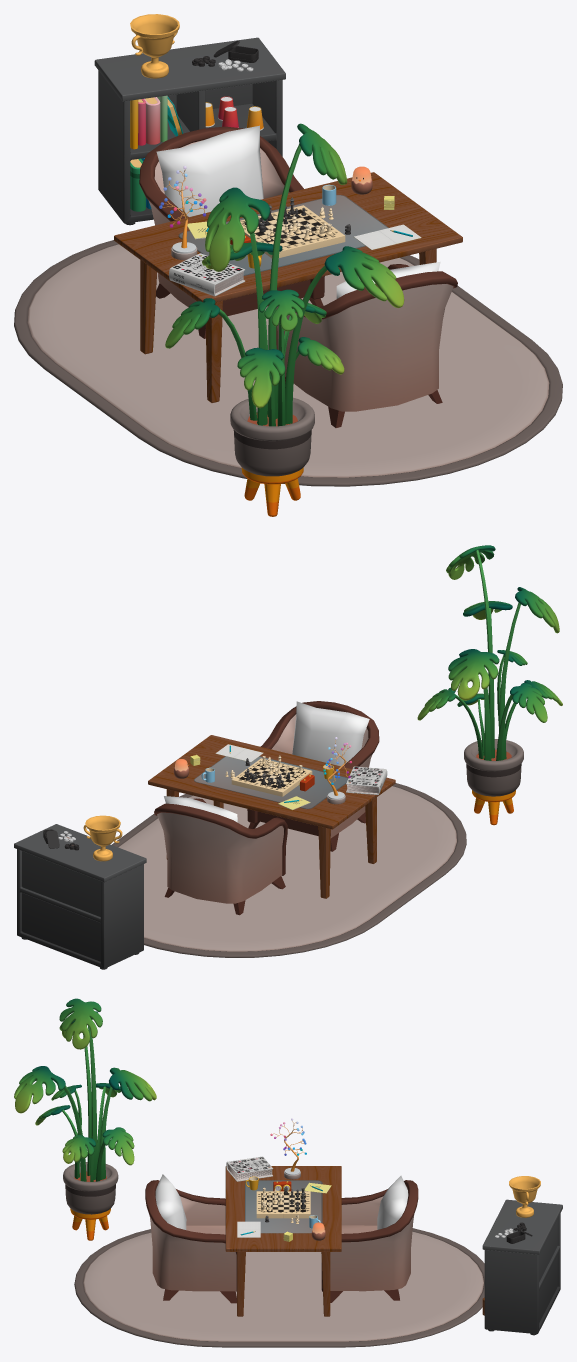
File: Chess_Pack_Free_Demo.glb
3 views of the same model, one above another, from view 1: azimuth 30°, elevation 25°; view 2: azimuth 150°, elevation 25°; view 3: azimuth 270°, elevation 25° (orthographic). The views are drawn at different scales.
Visible parts, largest first — view 1: Rug_01.001, Plant.002, Chair_01.001, Shelving_01.001, Table_01.002, Chair_01.002, Desk_Mat_01.001, Cup_01.003, Books_01.001, Book_01.001, Chesspad_01.002, Night_Lamp_02.002 (+2 smaller); view 2: Rug_01.001, Shelving_01.001, Plant.002, Chair_01.002, Table_01.002, Chair_01.001, Desk_Mat_01.001, Cup_01.003, Book_01.001, Chesspad_02.002, Chesspad_01.002, Night_Lamp_02.002; view 3: Rug_01.001, Plant.002, Shelving_01.001, Chair_01.001, Chair_01.002, Table_01.002, Desk_Mat_01.001, Cup_01.003, Book_01.001, Chesspad_02.002, Chesspad_01.002, Night_Lamp_02.002.
Boxes of the visible parts, <box> form: Rug_01.001: <box>14,240,562,486</box>; Plant.002: <box>165,123,404,516</box>; Chair_01.001: <box>276,261,457,427</box>; Shelving_01.001: <box>94,37,285,225</box>; Table_01.002: <box>114,172,462,402</box>; Chair_01.002: <box>139,125,324,338</box>; Desk_Mat_01.001: <box>178,195,388,275</box>; Cup_01.003: <box>130,14,179,78</box>; Books_01.001: <box>130,95,183,149</box>; Book_01.001: <box>169,253,245,296</box>; Chesspad_01.002: <box>255,220,345,258</box>; Night_Lamp_02.002: <box>159,166,207,260</box>; Rug_01.001: <box>112,783,466,957</box>; Shelving_01.001: <box>14,824,146,969</box>; Plant.002: <box>417,545,562,825</box>; Chair_01.002: <box>154,796,287,915</box>; Table_01.002: <box>148,735,395,898</box>; Chair_01.001: <box>247,701,379,851</box>; Desk_Mat_01.001: <box>194,756,348,809</box>; Cup_01.003: <box>83,815,122,861</box>; Book_01.001: <box>346,766,387,794</box>; Chesspad_02.002: <box>231,769,297,796</box>; Chesspad_01.002: <box>247,758,312,785</box>; Night_Lamp_02.002: <box>323,737,351,804</box>; Rug_01.001: <box>74,1228,484,1347</box>; Plant.002: <box>14,998,156,1240</box>; Shelving_01.001: <box>482,1199,562,1335</box>; Chair_01.001: <box>145,1174,236,1303</box>; Chair_01.002: <box>321,1175,418,1302</box>; Table_01.002: <box>225,1166,341,1316</box>; Desk_Mat_01.001: <box>245,1180,322,1233</box>; Cup_01.003: <box>509,1176,540,1217</box>; Book_01.001: <box>226,1156,273,1181</box>; Chesspad_02.002: <box>283,1191,310,1218</box>; Chesspad_01.002: <box>256,1191,283,1218</box>; Night_Lamp_02.002: <box>270,1118,306,1179</box>.
Size of the model in its own units: 3.02 by 2.37 by 4.89.
Materials: 11 (11 with a texture image).
